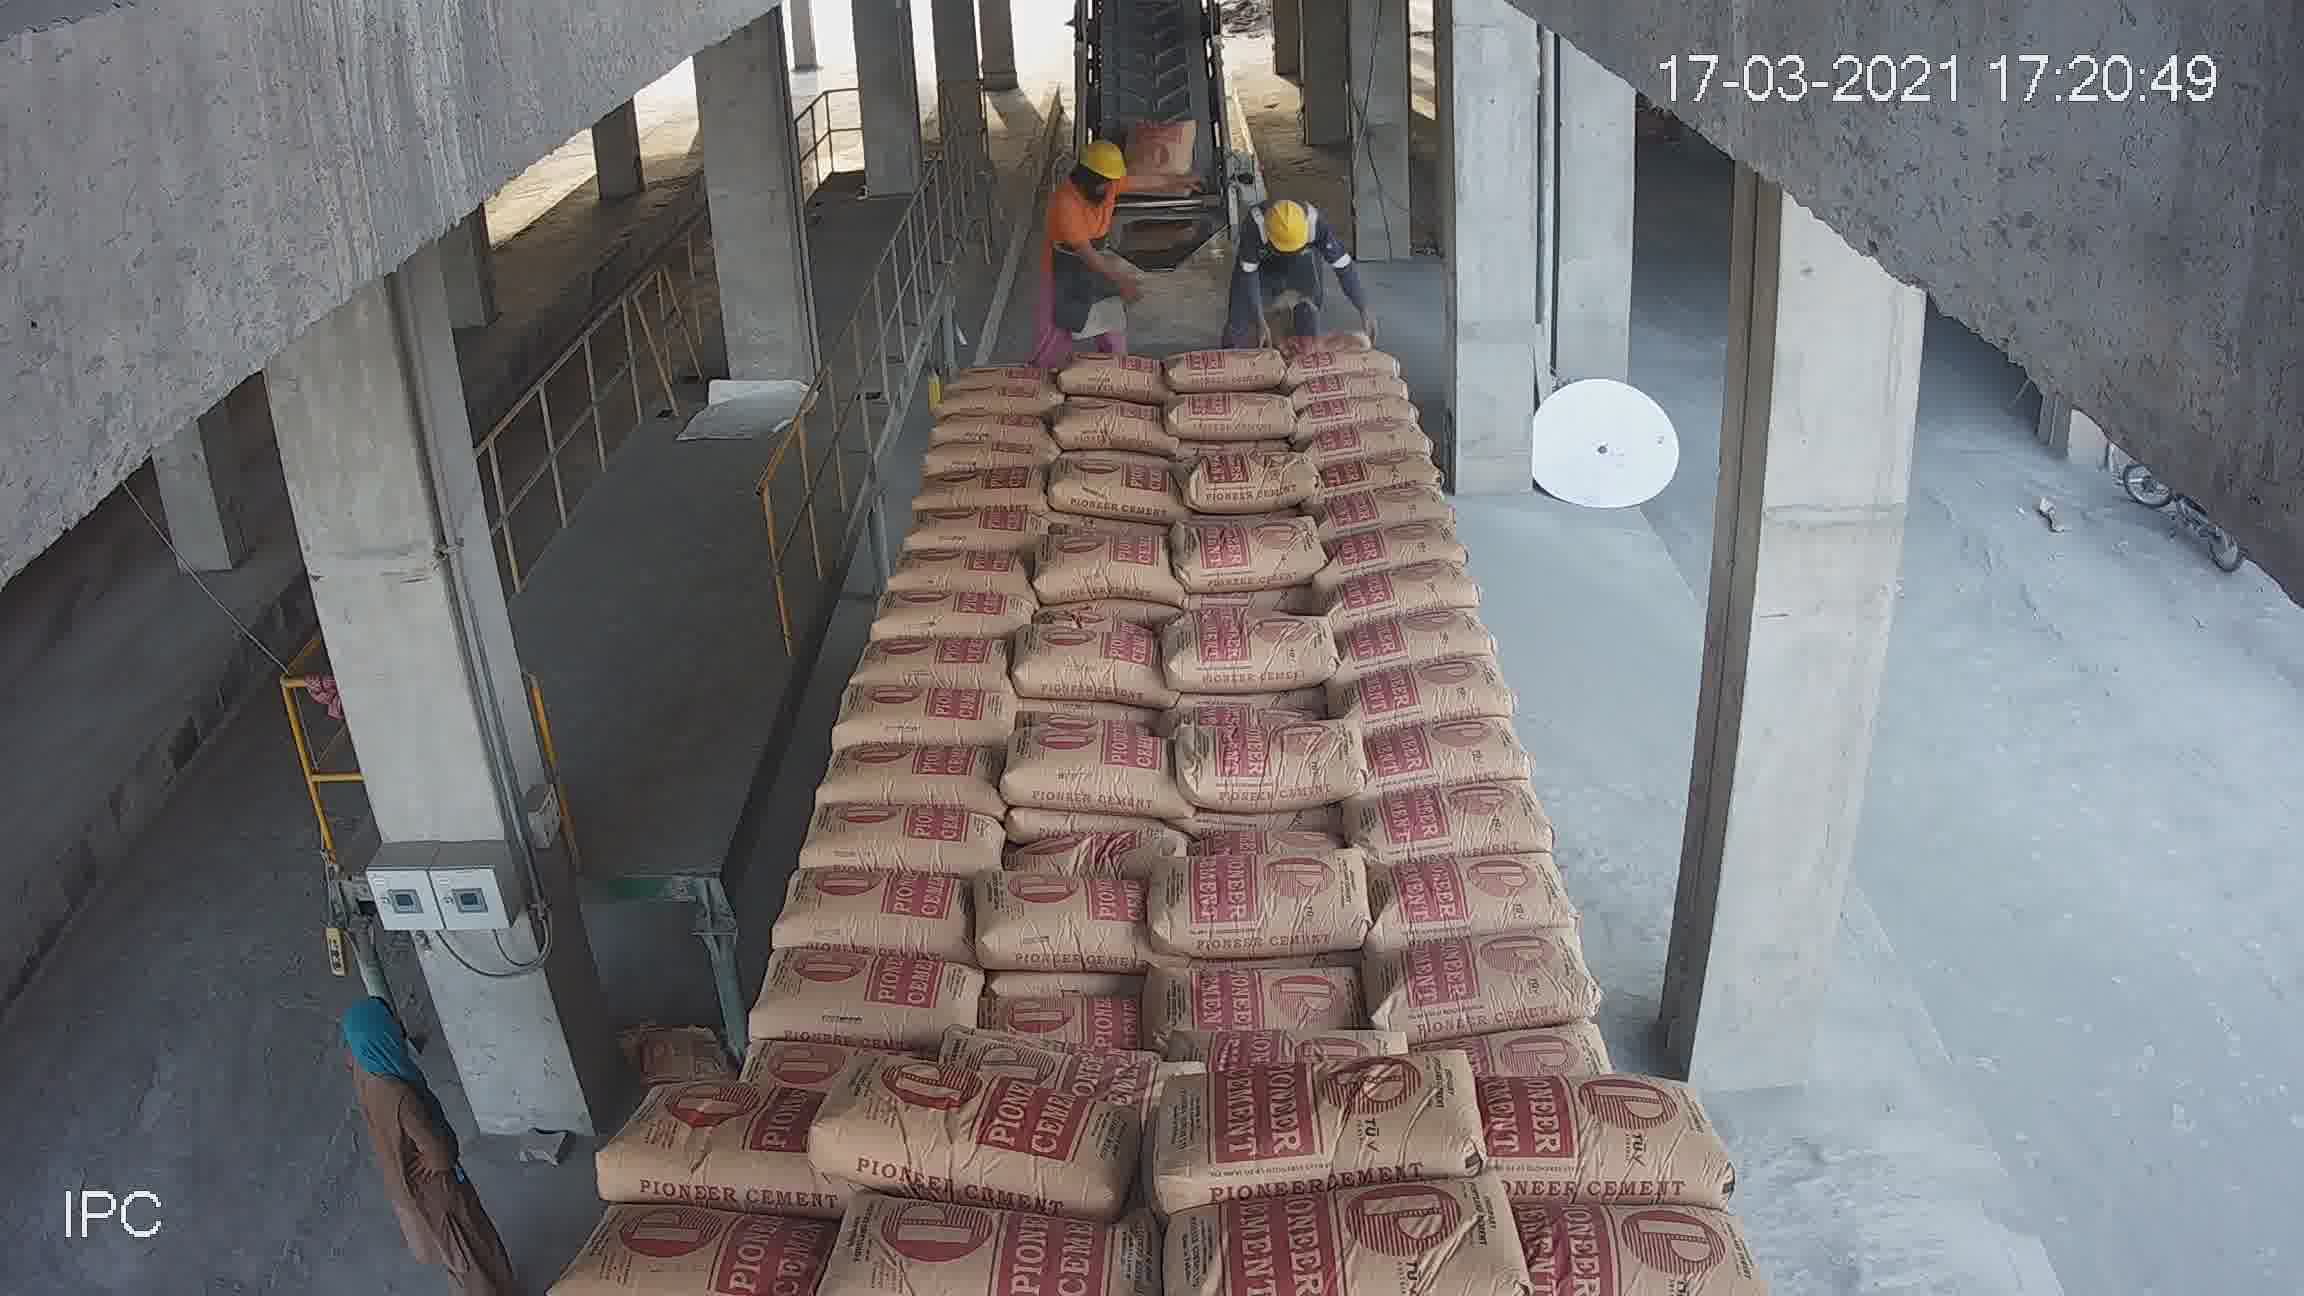bag: (1086, 324, 1226, 514)
bag_h: (1141, 1043, 1495, 1214), (1165, 1155, 1527, 1296), (807, 1065, 1135, 1195), (869, 946, 1161, 1079), (1152, 831, 1443, 957), (1483, 1063, 1715, 1215), (1143, 954, 1456, 1067), (597, 1060, 836, 1206), (628, 953, 894, 1082), (1437, 945, 1681, 1062), (680, 851, 911, 972), (824, 1199, 1177, 1269), (900, 859, 1161, 953), (563, 1196, 836, 1280), (1521, 1195, 1747, 1294), (1449, 859, 1631, 972), (1356, 698, 1527, 804), (1413, 791, 1603, 881), (809, 734, 1019, 809), (1188, 785, 1399, 856), (1347, 654, 1505, 736), (728, 812, 927, 877), (804, 688, 984, 745), (837, 631, 987, 690), (1381, 779, 1554, 828), (984, 820, 1147, 862), (821, 783, 956, 834), (864, 589, 968, 649), (1405, 608, 1499, 658), (888, 552, 965, 597), (1408, 565, 1483, 611), (1385, 513, 1465, 551), (1381, 479, 1443, 524), (1369, 451, 1438, 487), (1315, 343, 1404, 370), (1310, 326, 1400, 347), (1364, 388, 1435, 413), (1347, 366, 1402, 397)
belt: (999, 22, 1305, 600)
